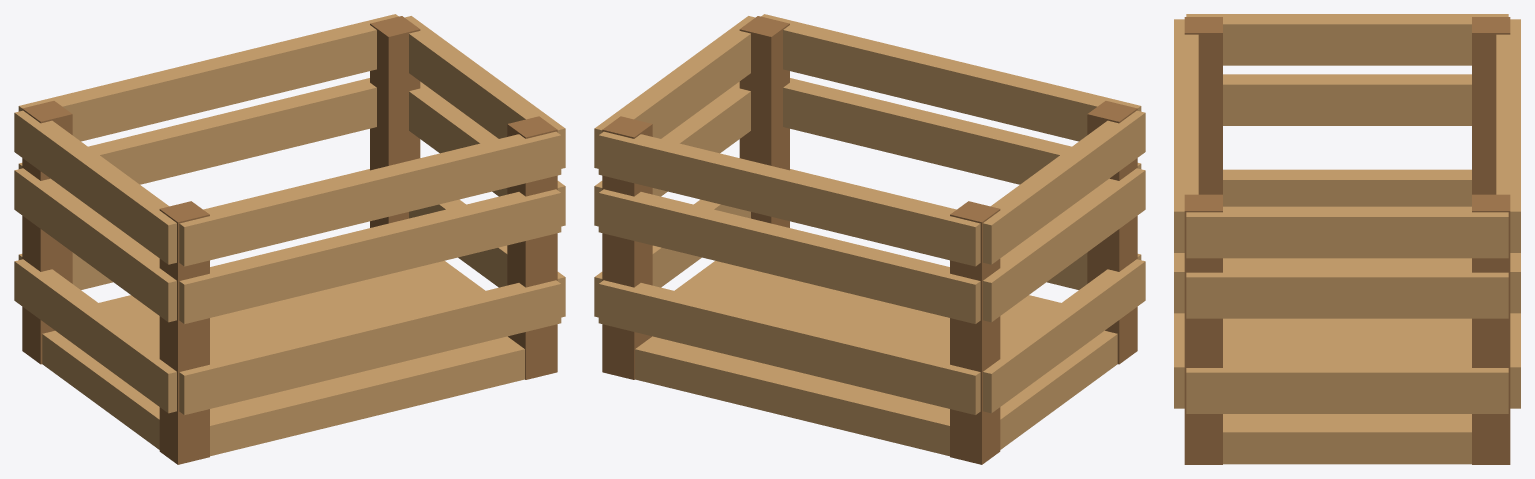
Rendered from TR_Crate_Empty.glb.
The picture shows the model from 3 angles, left to right: view 1: azimuth 30°, elevation 25°; view 2: azimuth 150°, elevation 25°; view 3: azimuth 270°, elevation 25°; orthographic projection. The views are drawn at different scales.
Visible parts, largest first — view 1: TR_Crate_Empty; view 2: TR_Crate_Empty; view 3: TR_Crate_Empty.
Part boxes in pixels (<box>): TR_Crate_Empty: <box>14,14,565,464</box>; TR_Crate_Empty: <box>594,14,1145,464</box>; TR_Crate_Empty: <box>1174,14,1520,464</box>.
Size of the model in its own units: 0.685 by 0.4 by 0.495.
